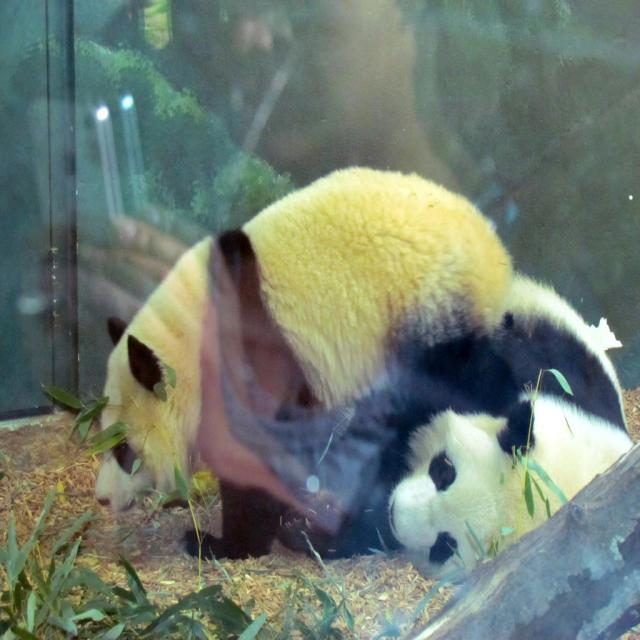panda: (92, 163, 520, 563), (277, 276, 633, 584)
